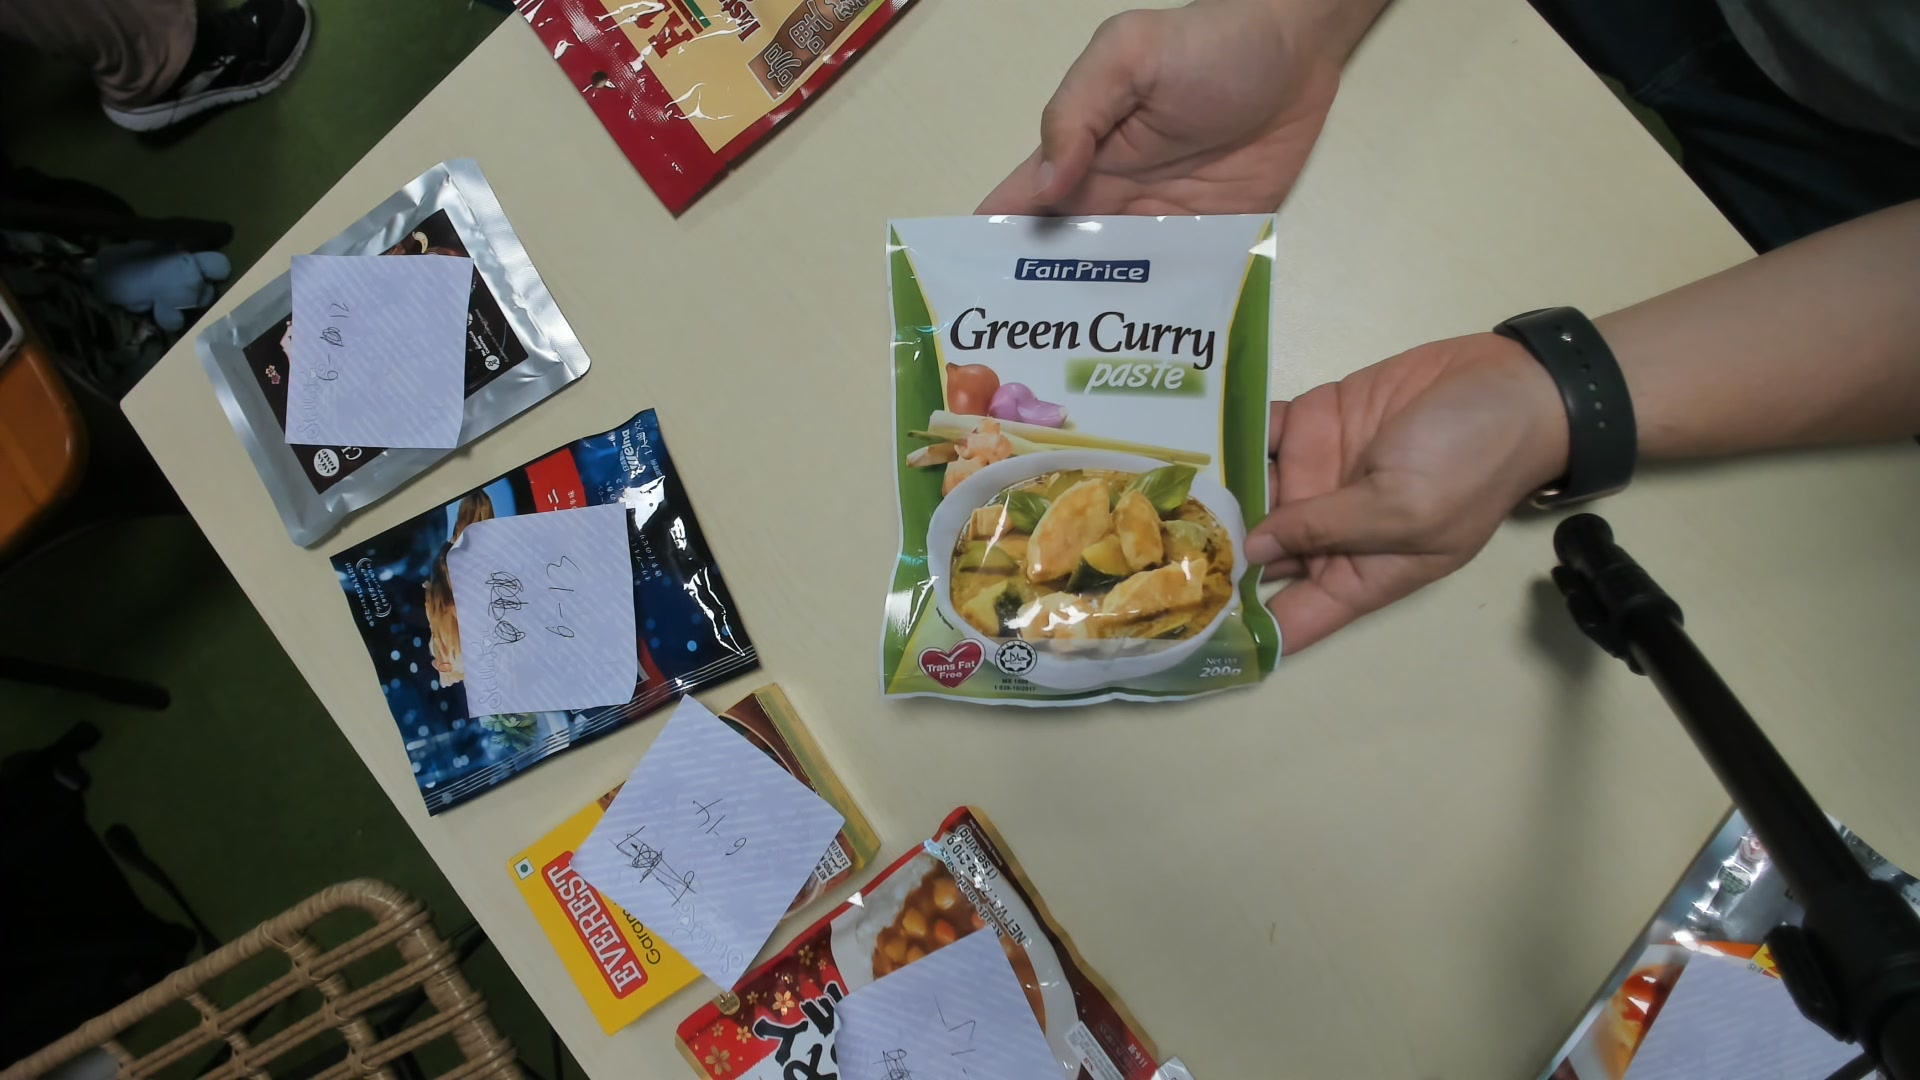CurryPastePowderSauce_200-299g_Halal_NonHealthy: (880, 207, 1273, 703)
